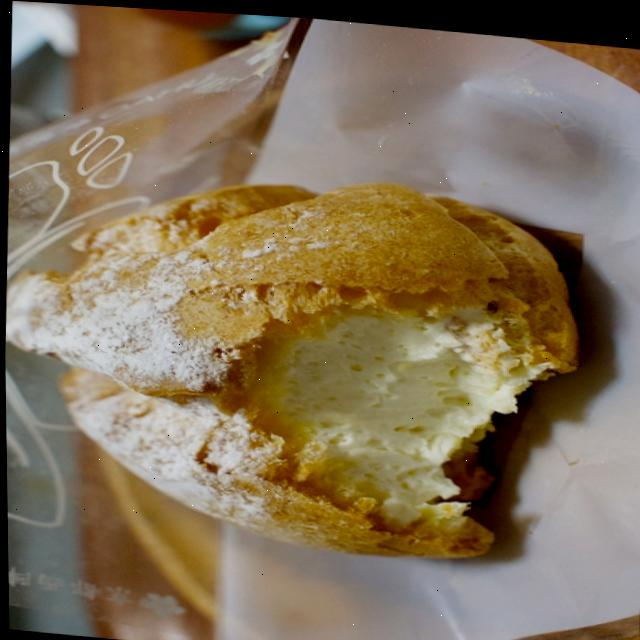炸货点心: (1, 85, 604, 618)
蛋糕甜品: (1, 85, 604, 618)
